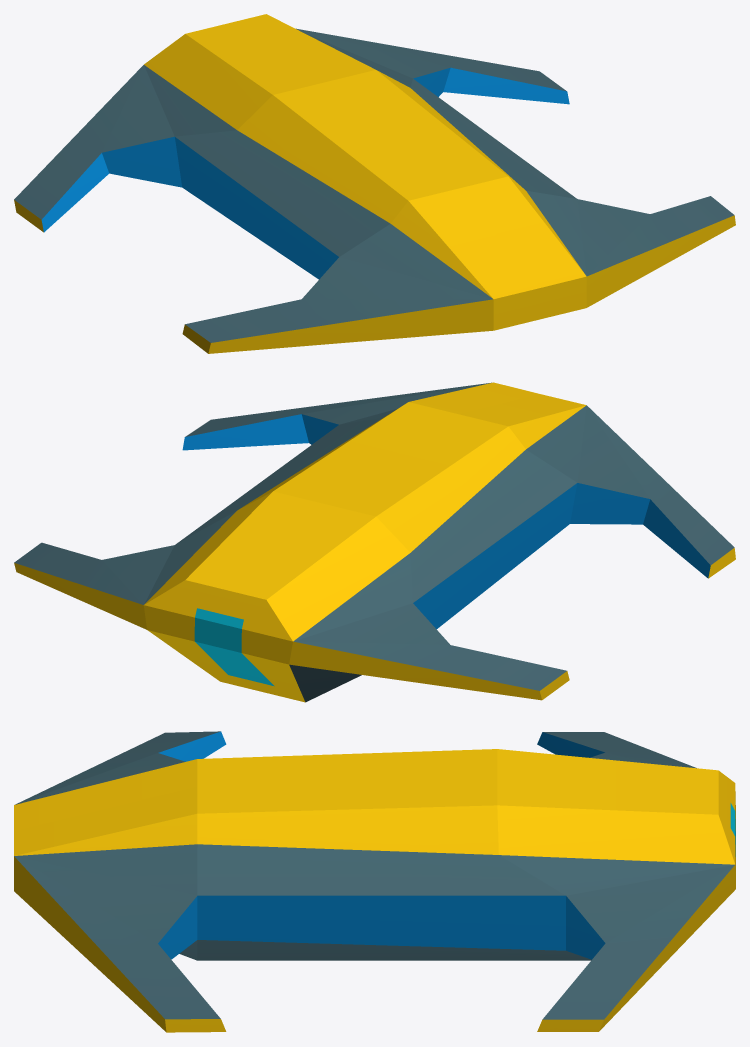
Rendered from Delivery_drone_012.fbx.
The picture shows the model from 3 angles, top to bottom: view 1: azimuth 30°, elevation 25°; view 2: azimuth 150°, elevation 25°; view 3: azimuth 270°, elevation 25°; orthographic projection. The views are drawn at different scales.
Visible parts, largest first — view 1: Delivery_drone_012; view 2: Delivery_drone_012; view 3: Delivery_drone_012.
Part boxes in pixels (x1,y1,x2,y2): Delivery_drone_012: [14, 14, 735, 353]; Delivery_drone_012: [14, 382, 735, 702]; Delivery_drone_012: [14, 731, 735, 1032].
Bounding box in the file's own units: 91.08 × 96.31 × 23.58.
